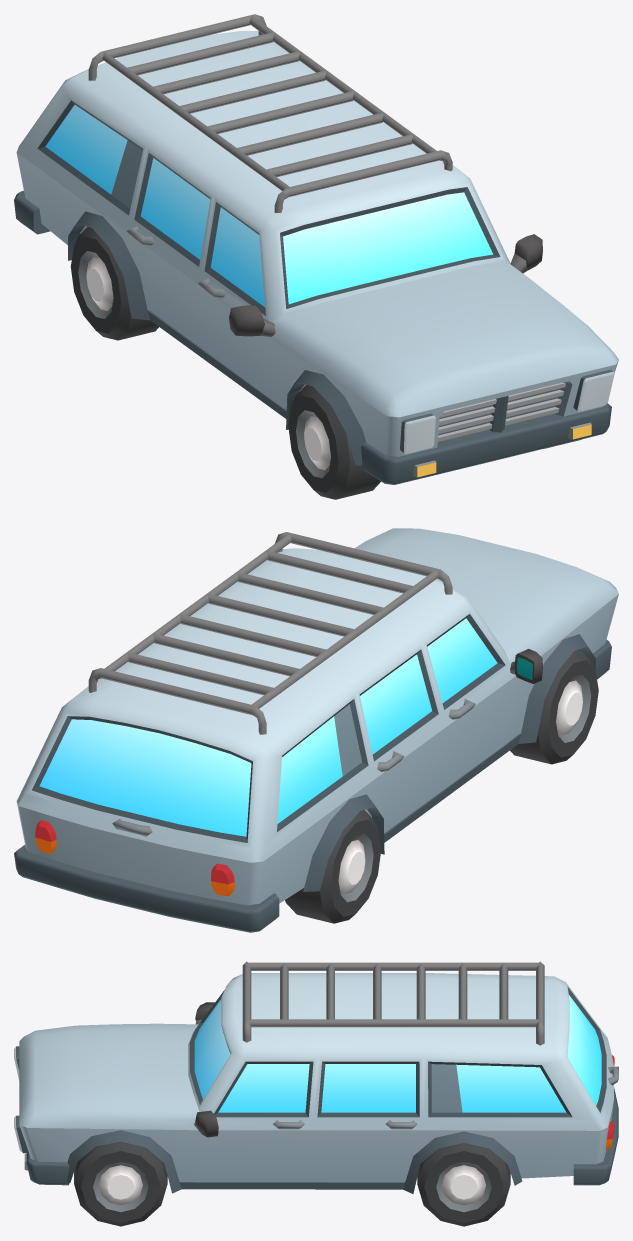
File: Car_05.glb
3 renders of one model, top to bottom at view 1: azimuth 30°, elevation 25°; view 2: azimuth 150°, elevation 25°; view 3: azimuth 270°, elevation 25°, orthographic. The views are drawn at different scales.
Parts seen in each view (by area): view 1: Car_05, Wheel_065, Wheel_066; view 2: Car_05, Wheel_066, Wheel_065; view 3: Car_05, Wheel_067, Wheel_068.
Part boxes in pixels (x1=…): Car_05: x1=14, y1=14, x2=618, y2=484; Wheel_065: x1=288, y1=385, x2=380, y2=499; Wheel_066: x1=70, y1=227, x2=158, y2=340; Car_05: x1=14, y1=528, x2=618, y2=932; Wheel_066: x1=285, y1=810, x2=381, y2=923; Wheel_065: x1=510, y1=649, x2=598, y2=764; Car_05: x1=14, y1=961, x2=618, y2=1193; Wheel_067: x1=74, y1=1141, x2=167, y2=1226; Wheel_068: x1=417, y1=1143, x2=510, y2=1226.
Size of the model in its own units: 2.55 by 1.88 by 5.49.
2 materials, 2 textured.
